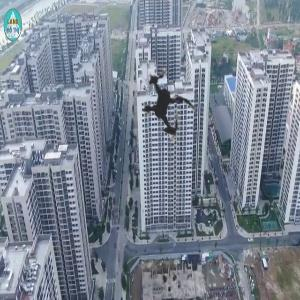drone: (102, 42, 228, 168)
